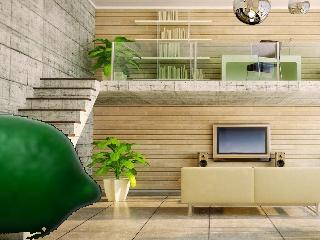lime: (0, 115, 102, 238)
